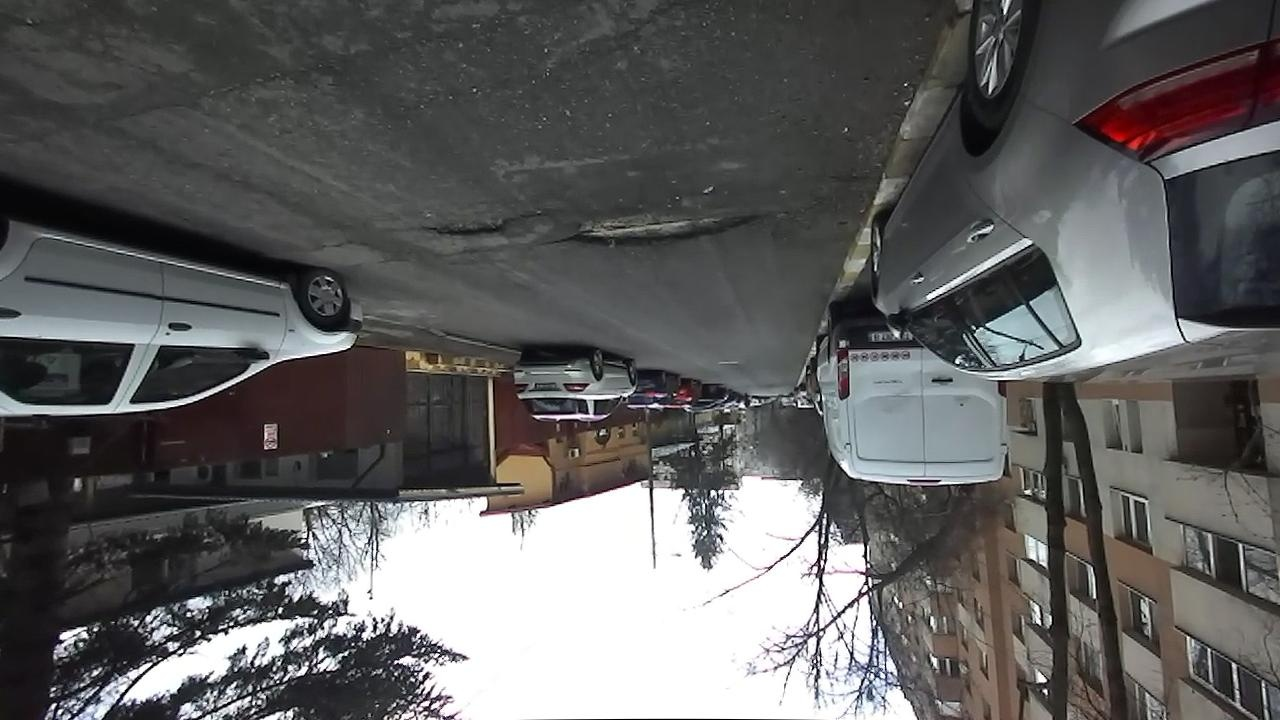pothole: (552, 205, 788, 248), (419, 207, 545, 242)
